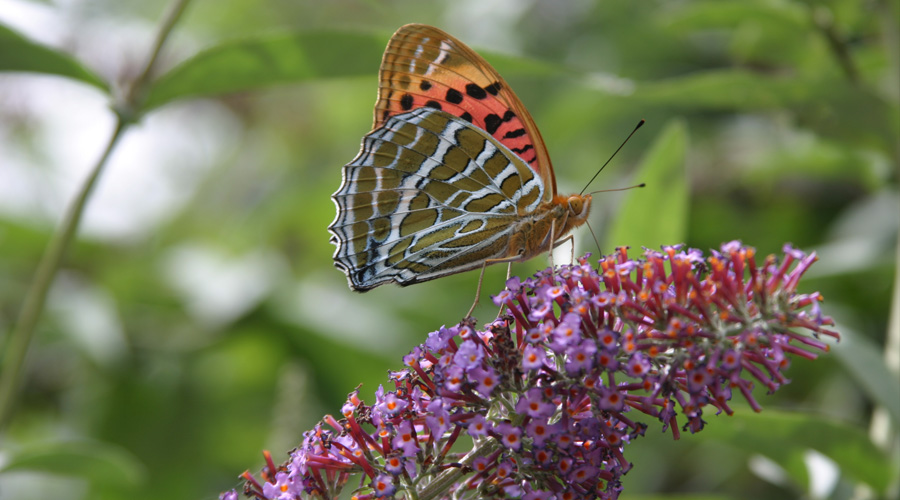Argyreus hyperbius: (317, 11, 657, 331)
butterfly: (319, 13, 659, 333)
